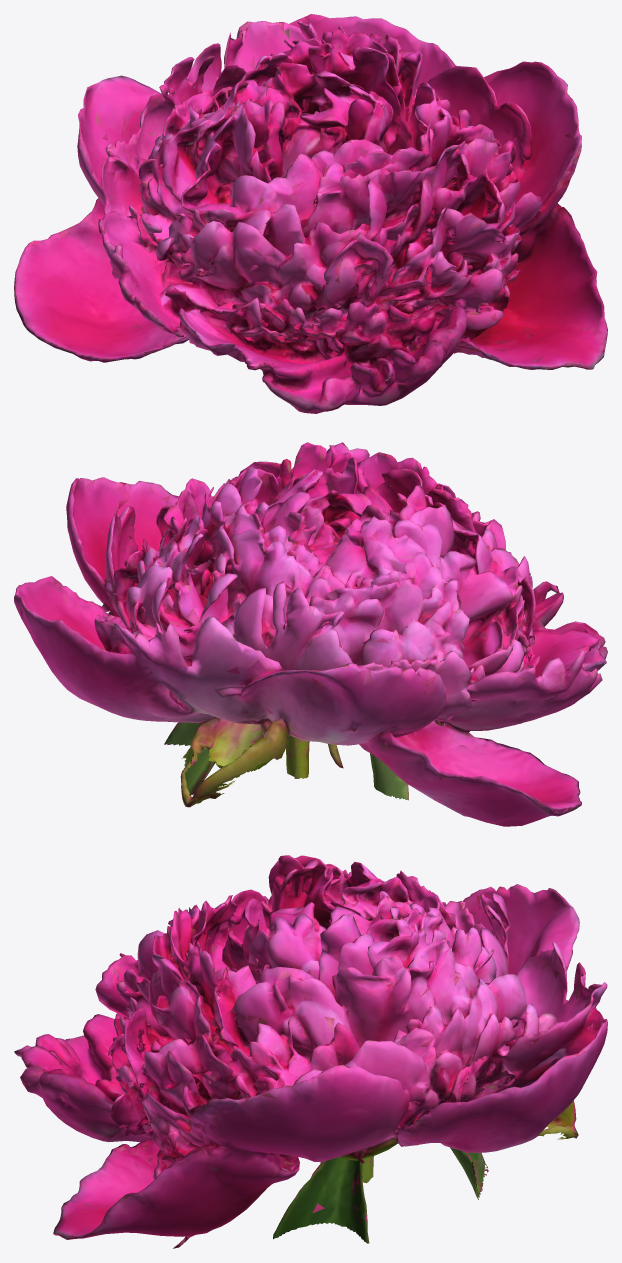
File: peony.glb
3 views of the same model, one above another, from view 1: azimuth 30°, elevation 25°; view 2: azimuth 150°, elevation 25°; view 3: azimuth 270°, elevation 25° (orthographic). The views are drawn at different scales.
Parts seen in each view (by area): view 1: Object_3; view 2: Object_3; view 3: Object_3.
Boxes of the visible parts, left/top/right/bottom form: Object_3: left=14, top=14, right=607, bottom=413; Object_3: left=14, top=442, right=607, bottom=826; Object_3: left=14, top=855, right=607, bottom=1248.
Size of the model in its own units: 1.75 by 0.8895 by 1.65.
1 material, 1 textured.
